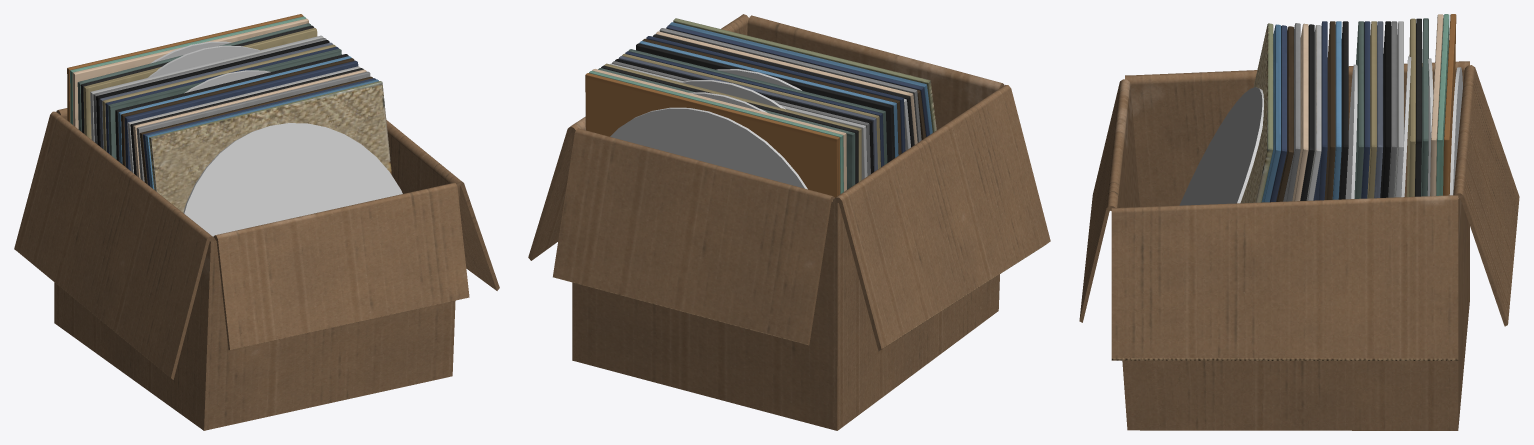
File: SM_CardboardBox_Records.fbx
3 renders of one model, left to right at view 1: azimuth 30°, elevation 25°; view 2: azimuth 150°, elevation 25°; view 3: azimuth 270°, elevation 25°, orthographic. The views are drawn at different scales.
Visible parts, largest first — view 1: SM_CardboardBox_Records_LOD0; view 2: SM_CardboardBox_Records_LOD0; view 3: SM_CardboardBox_Records_LOD0.
Part boxes in pixels (box(x1,y1,x2,y2)): SM_CardboardBox_Records_LOD0: box(14, 14, 499, 430); SM_CardboardBox_Records_LOD0: box(528, 14, 1050, 430); SM_CardboardBox_Records_LOD0: box(1079, 14, 1519, 430).
Size of the model in its own units: 66.54 by 70.01 by 51.61.
